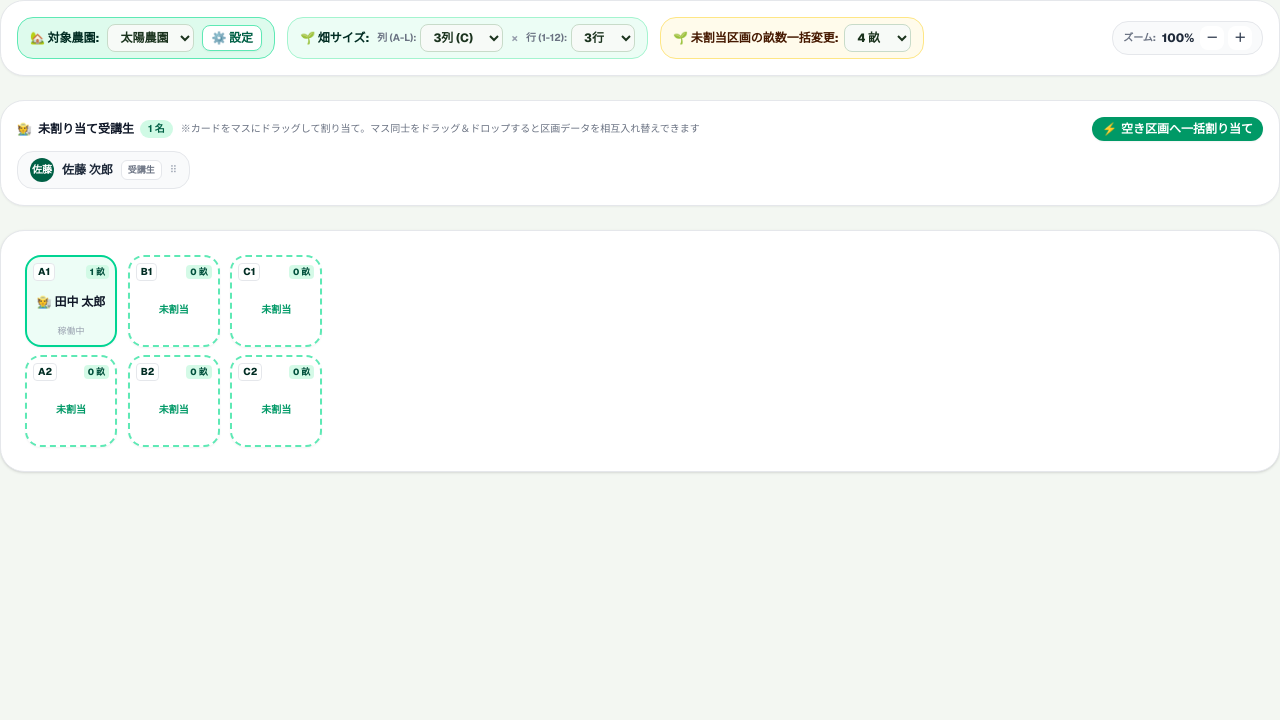
it: B2a: PlotDetailModal 特性テスト (TeacherFarmCanvasView 経由) › 10. 畝削除時、confirm が OK なら deleteBedFromPlot が呼ばれること
Expected: the text "A1" is shown, [38,265,50,278]
Click the text "A1": x=71, y=301 [25,255,117,347]
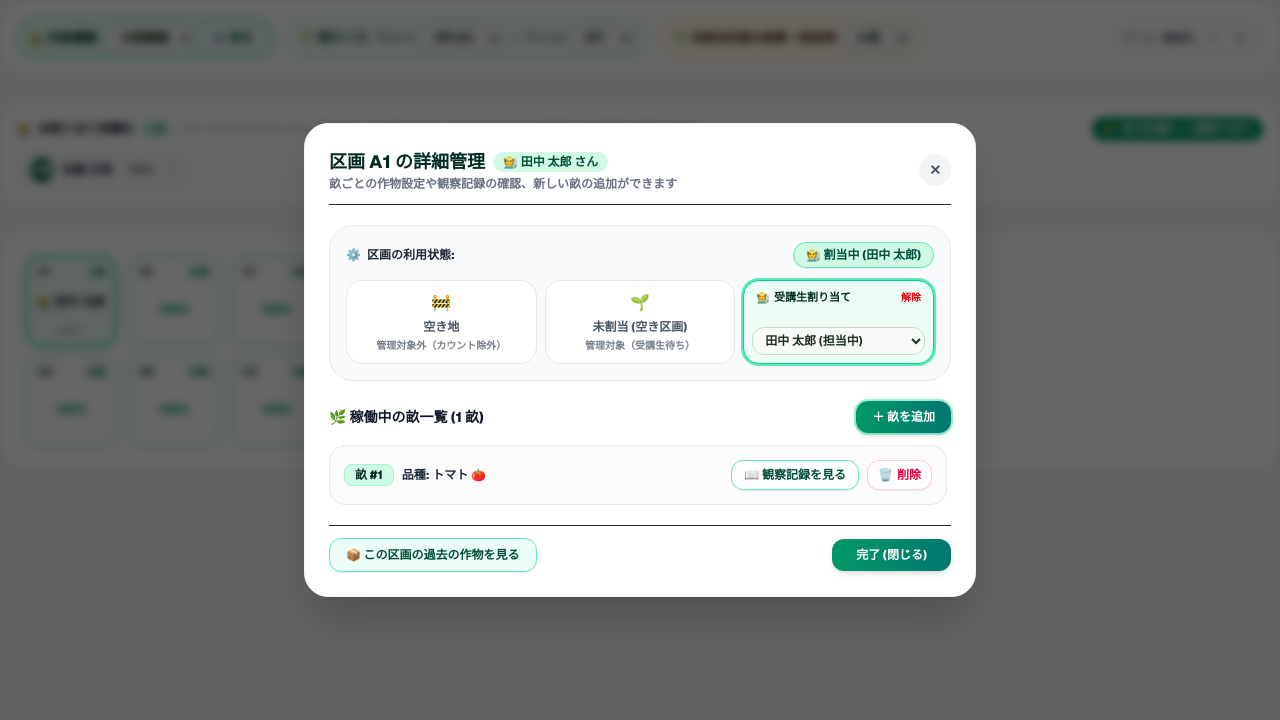
Result: the text "区画 A1 の詳細管理" is shown at [329,148,485,176]
Click the button titled "畝を削除": x=900, y=475 [867,460,932,490]
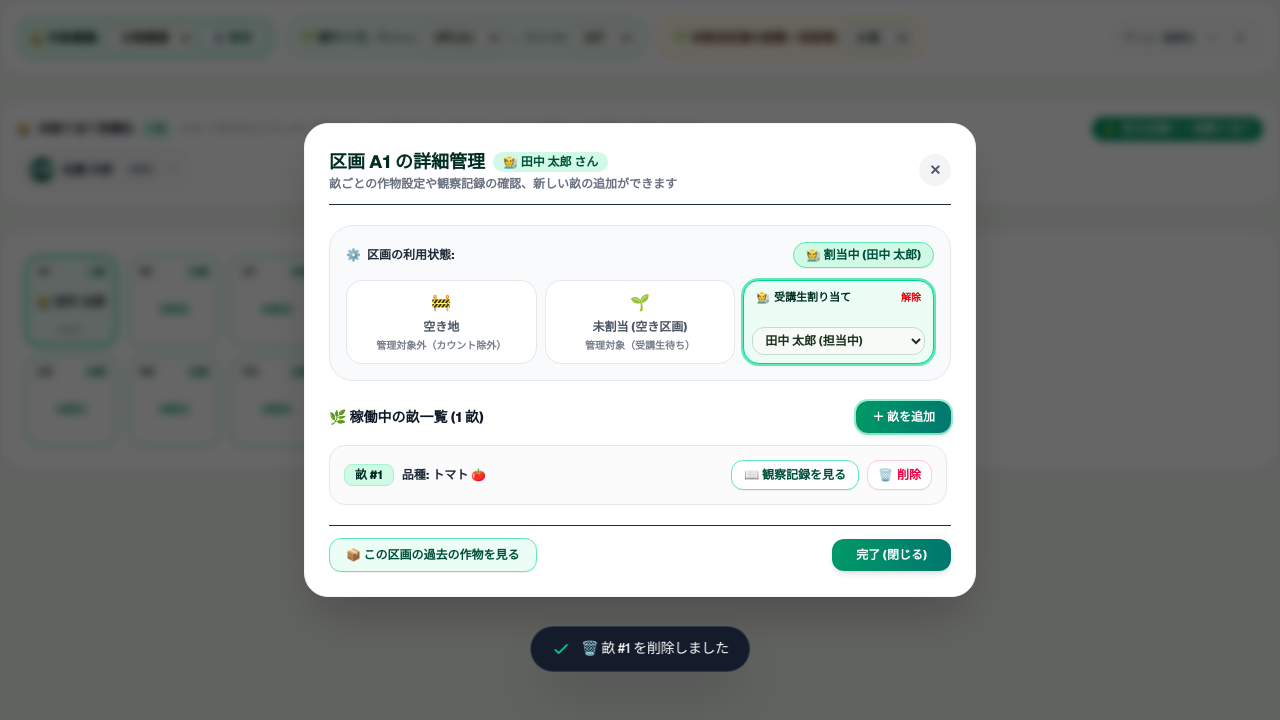
Result: the text "🗑️ 畝 #1 を削除しました" is shown at [581,639,729,659]
